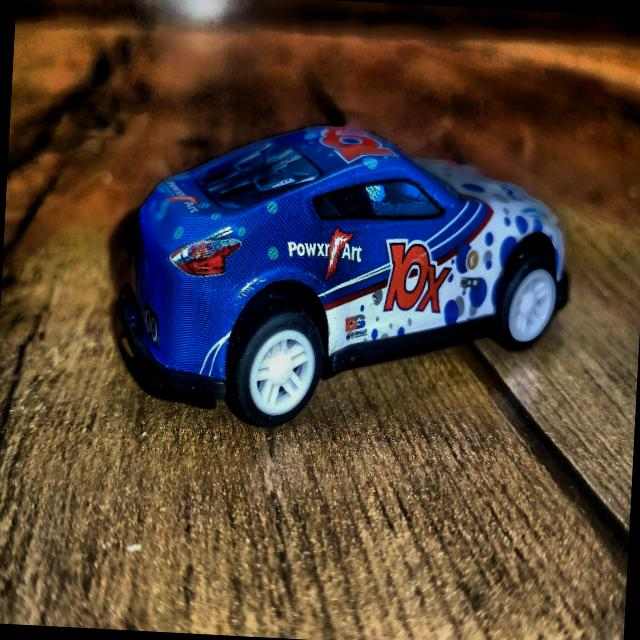Car: (115, 118, 574, 442)
